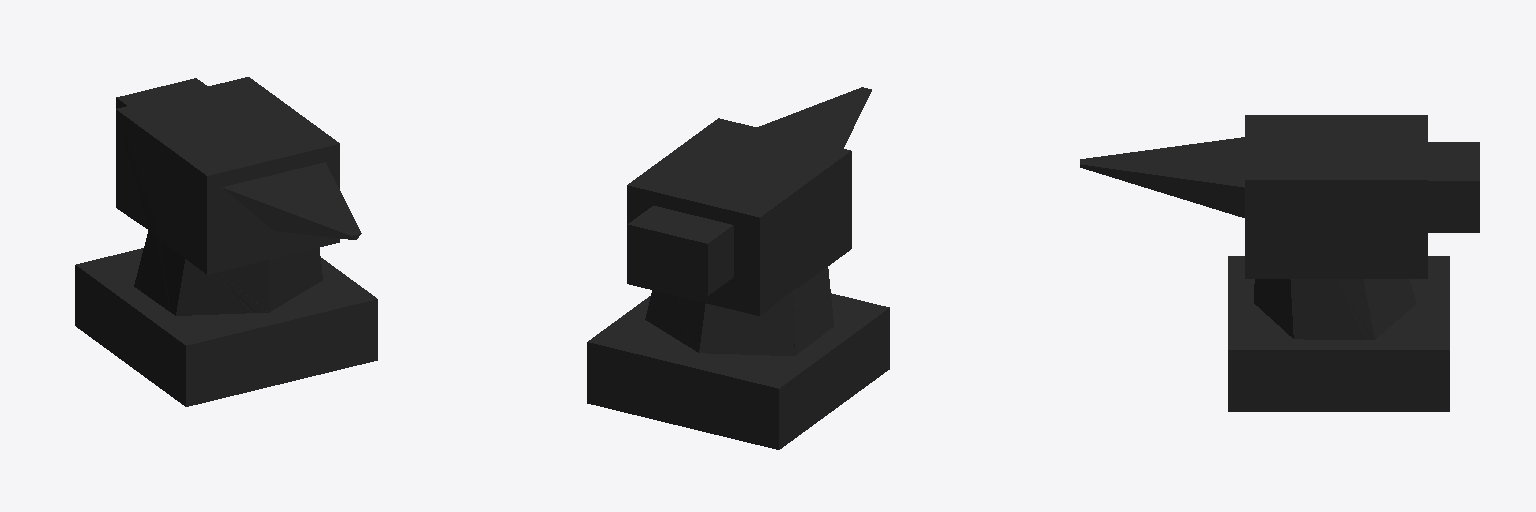
Rendered from anvil1.obj.
The picture shows the model from 3 angles: view 1: azimuth 30°, elevation 25°; view 2: azimuth 150°, elevation 25°; view 3: azimuth 270°, elevation 25°; orthographic projection.
Parts seen in each view (by area): view 1: Object.1; view 2: Object.1; view 3: Object.1.
Boxes of the visible parts, x1,y1,x2,y2 form: Object.1: [75, 77, 377, 406]; Object.1: [587, 87, 889, 449]; Object.1: [1080, 115, 1479, 411].
Bounding box in the file's own units: 0.554 × 0.6 × 1.